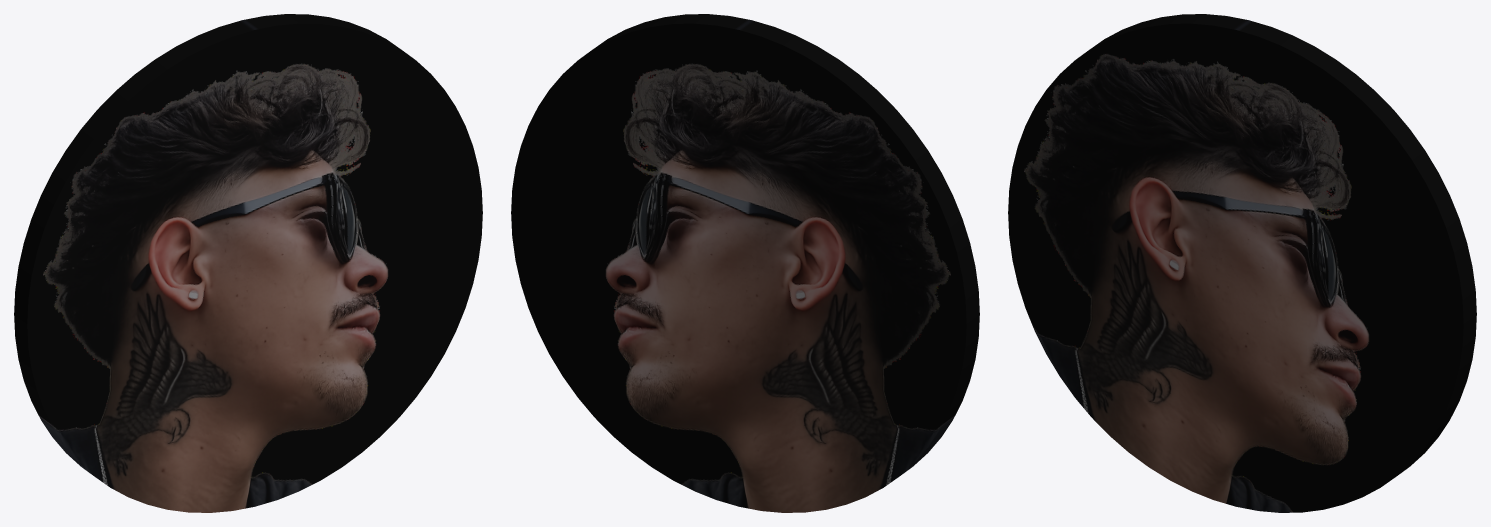
File: disco_3d.glb
3 renders of one model, left to right at view 1: azimuth 30°, elevation 25°; view 2: azimuth 150°, elevation 25°; view 3: azimuth 330°, elevation 25°, orthographic.
Parts seen in each view (by area): view 1: world; view 2: world; view 3: world.
Boxes of the visible parts, <box> form: world: <box>14,14,482,512</box>; world: <box>511,14,979,512</box>; world: <box>1008,14,1476,512</box>.
Size of the model in its own units: 2 by 2 by 0.1.
Materials: 1 (1 with a texture image).
